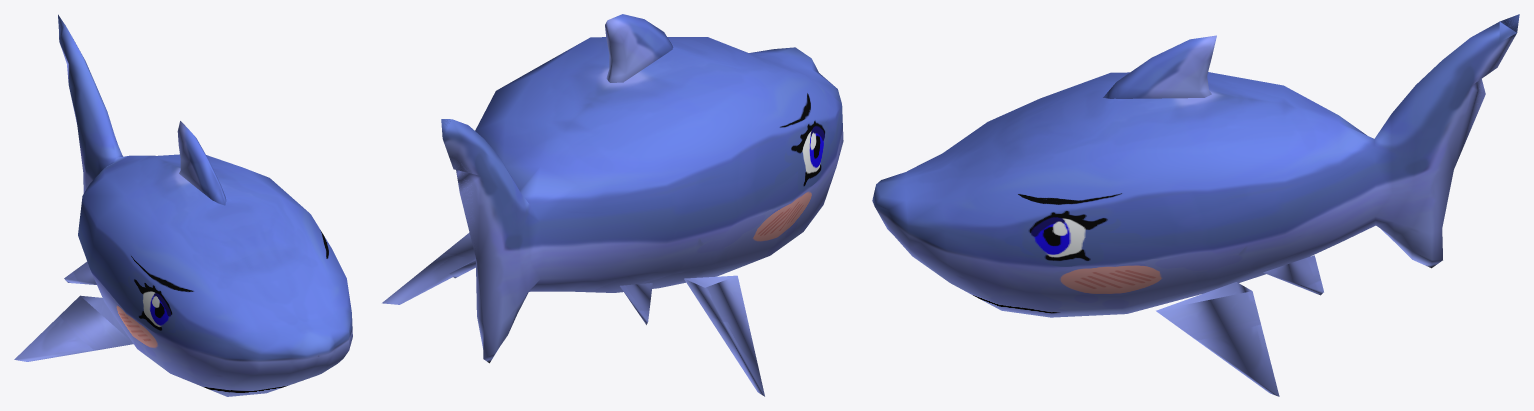
The model's file is shark_resize.obj.
3 views of the same model, side by side, from view 1: azimuth 30°, elevation 25°; view 2: azimuth 150°, elevation 25°; view 3: azimuth 270°, elevation 25° (orthographic). The views are drawn at different scales.
Parts seen in each view (by area): view 1: Cube; view 2: Cube; view 3: Cube.
Part boxes in pixels (x1,y1,x2,y2): Cube: (14, 14, 352, 396); Cube: (382, 14, 843, 396); Cube: (872, 14, 1519, 396).
Size of the model in its own units: 2.39 by 1.96 by 3.84.
1 material, 1 textured.
